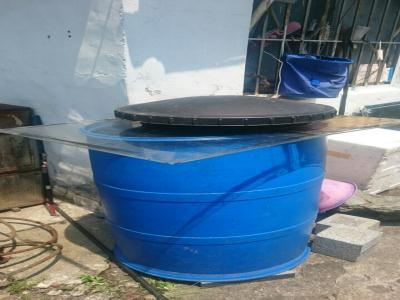bowl: (81, 118, 327, 281)
plastic_bag: (277, 52, 355, 99)
plate: (113, 95, 338, 126)
styrofoam: (324, 126, 400, 195)
